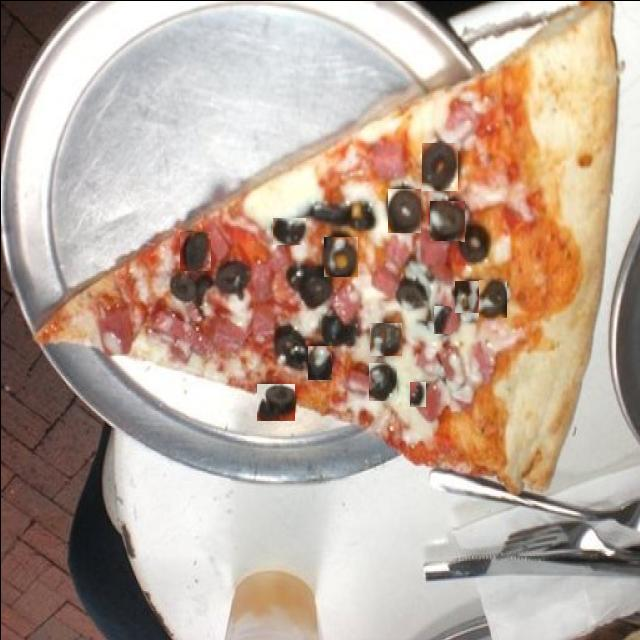olive: (308, 202, 376, 231), (288, 264, 332, 308), (421, 142, 457, 190), (273, 323, 307, 371), (167, 272, 212, 308), (387, 188, 420, 232), (256, 383, 294, 420), (429, 200, 464, 240), (323, 236, 357, 276), (460, 220, 490, 264), (179, 231, 210, 270), (318, 315, 356, 346), (215, 260, 247, 296), (478, 279, 506, 317), (368, 362, 396, 400), (369, 322, 401, 355), (396, 279, 426, 310), (270, 217, 304, 244), (307, 345, 331, 379), (454, 280, 478, 312), (433, 305, 452, 333), (409, 381, 425, 406)
pizza: (34, 0, 616, 496)
